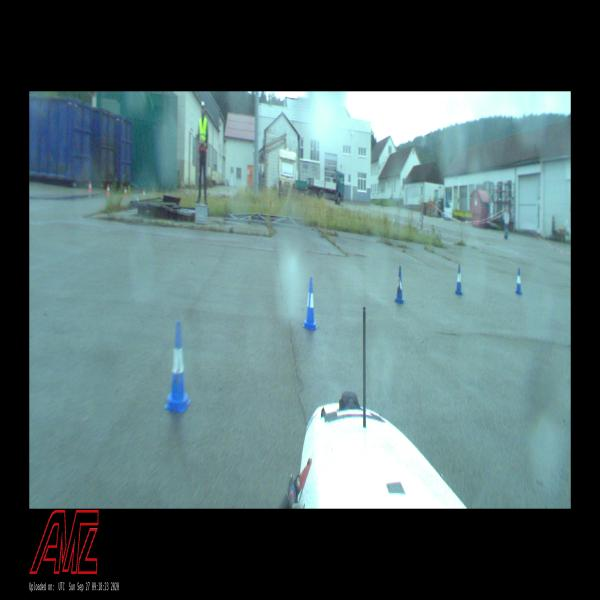blue_cone: (164, 321, 191, 413), (302, 277, 318, 331), (394, 266, 405, 305), (455, 264, 463, 296), (515, 268, 522, 294)
orange_cone: (88, 182, 92, 192), (124, 186, 127, 197), (107, 185, 110, 195)
